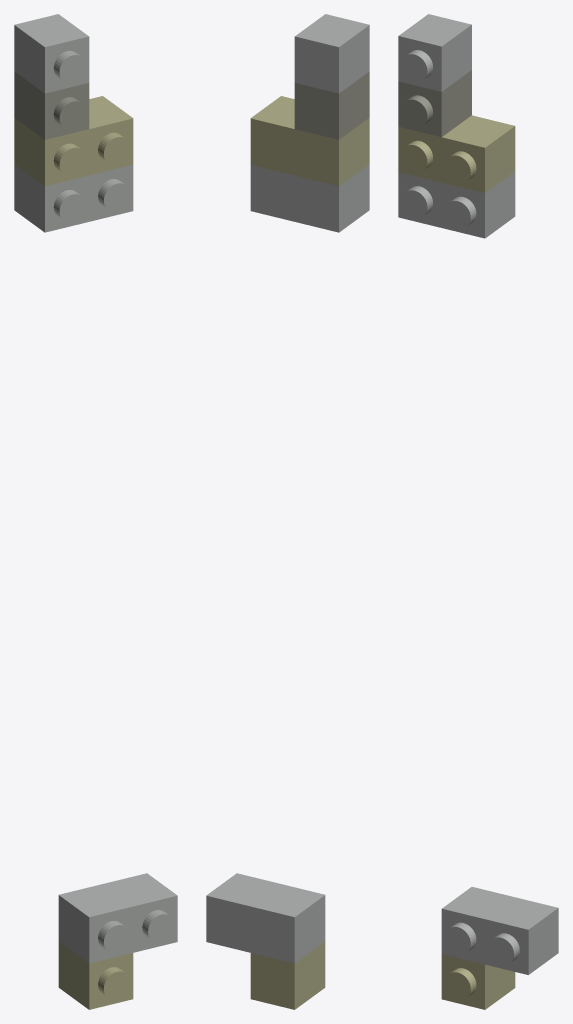
The model's file is current.glb.
3 renders of one model, left to right at view 1: azimuth 30°, elevation 25°; view 2: azimuth 150°, elevation 25°; view 3: azimuth 330°, elevation 25°, orthographic. The views are drawn at different scales.
Parts seen in each view (by area): view 1: world; view 2: world; view 3: world.
Part boxes in pixels (bbox=[...]): world: bbox=[14, 14, 177, 1009]; world: bbox=[206, 14, 369, 1009]; world: bbox=[398, 14, 558, 1009].
Bounding box in the file's own units: 24 × 168 × 11.4.
